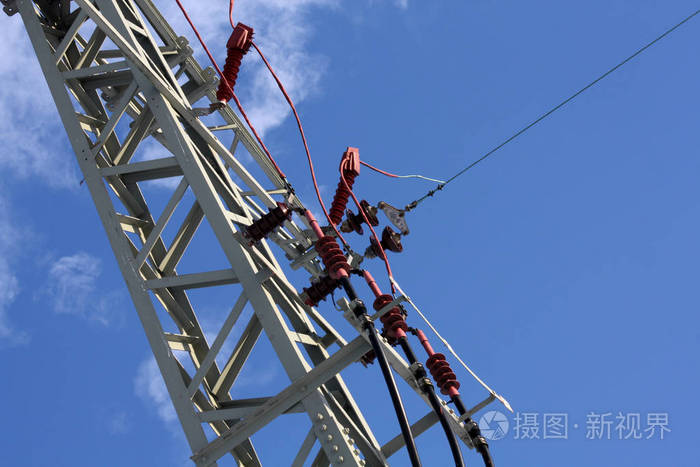insulator: (326, 171, 358, 226), (315, 233, 349, 279), (425, 350, 459, 396), (216, 48, 244, 100), (376, 293, 406, 337)
